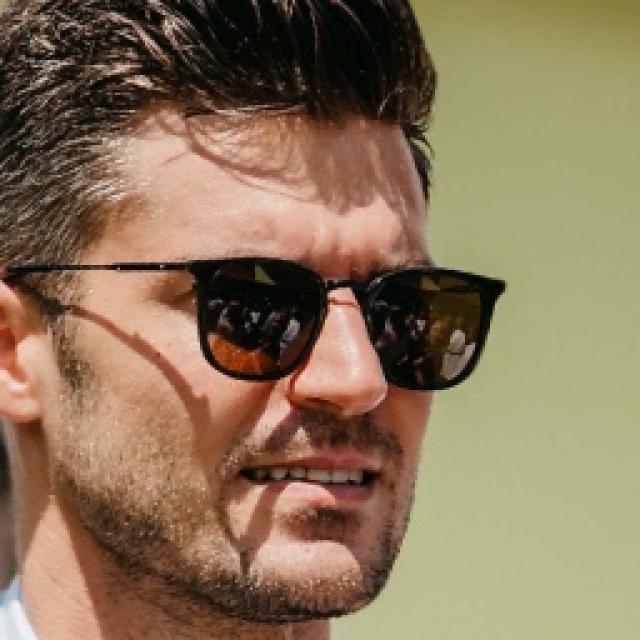glasses: (82, 247, 528, 394)
